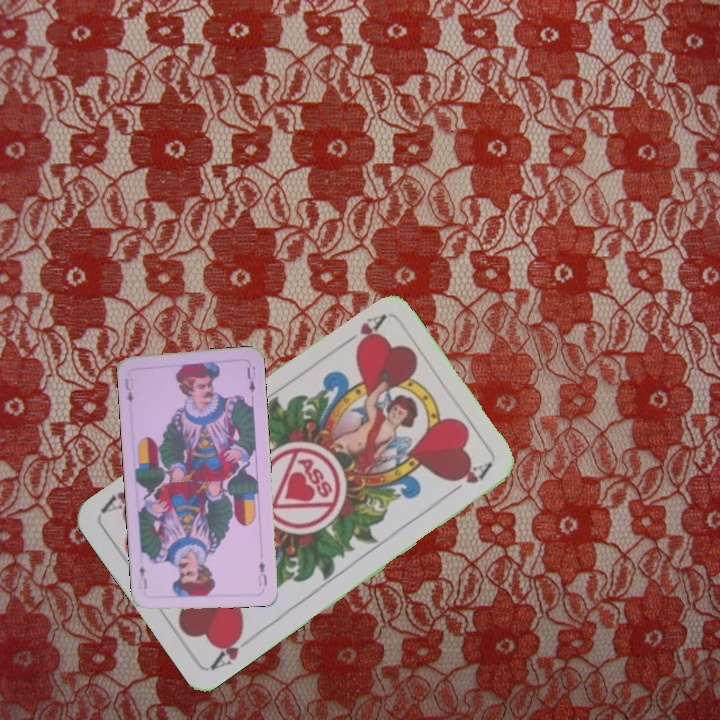EU: (254, 557, 269, 589), (121, 374, 135, 405)
HA: (206, 624, 258, 672), (335, 311, 388, 351)
